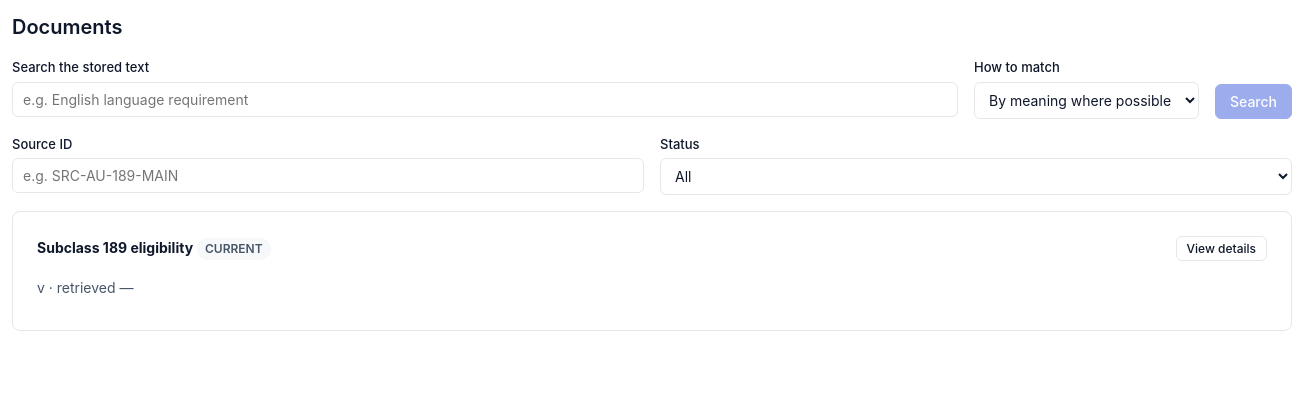
Scenario: DocumentsPage › searches the stored text and says the match was by meaning
This screenshot has width=1304, height=416.
Type "english requirement" into the field labelled "Search the stored text" at (485, 99), box [12, 82, 958, 116]
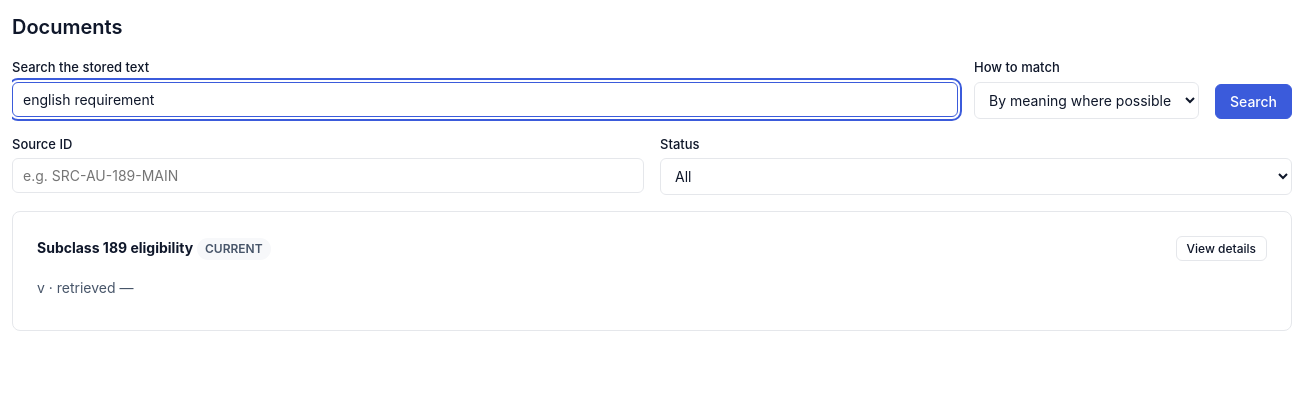
Click the button "Search" at (1254, 101), box [1215, 84, 1292, 118]
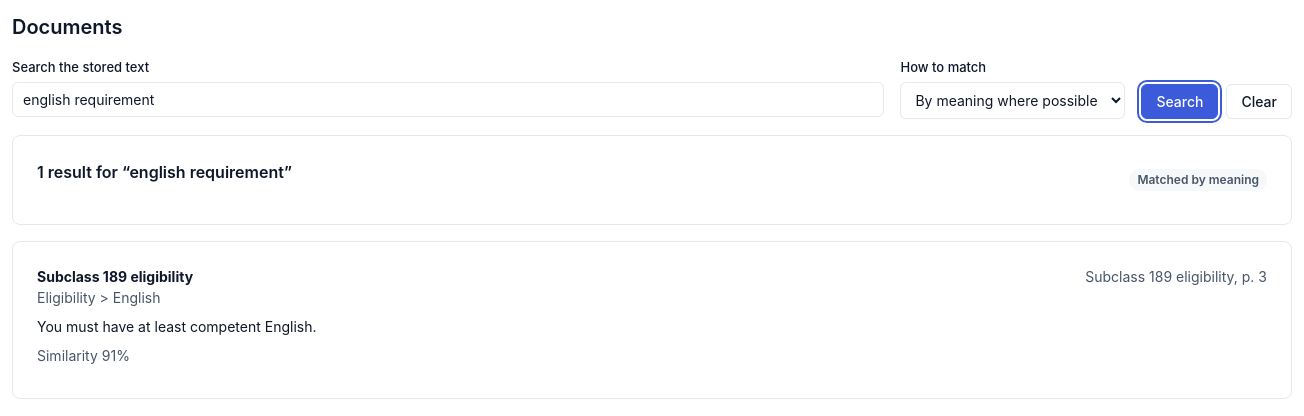
Check: the heading "1 result for “english requirement”" is shown, box [37, 160, 292, 184]
Check: the text "Matched by meaning" is shown, box [1129, 168, 1267, 190]
Check: the text "You must have at least competent English." is shown, box [37, 318, 316, 334]
